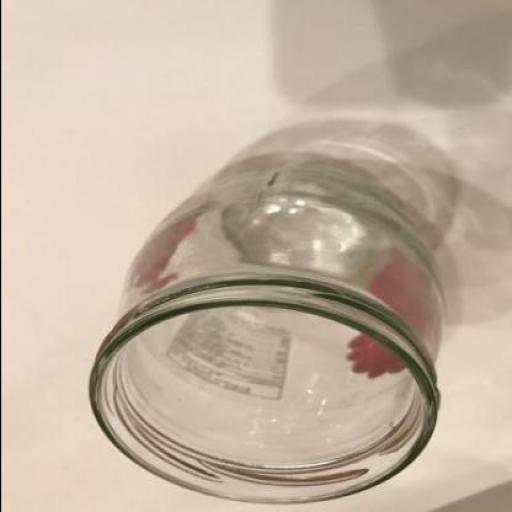glass: (86, 168, 444, 506)
